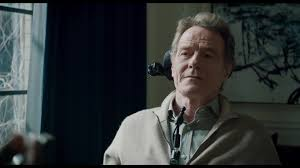white_male: (171, 34, 233, 103)
